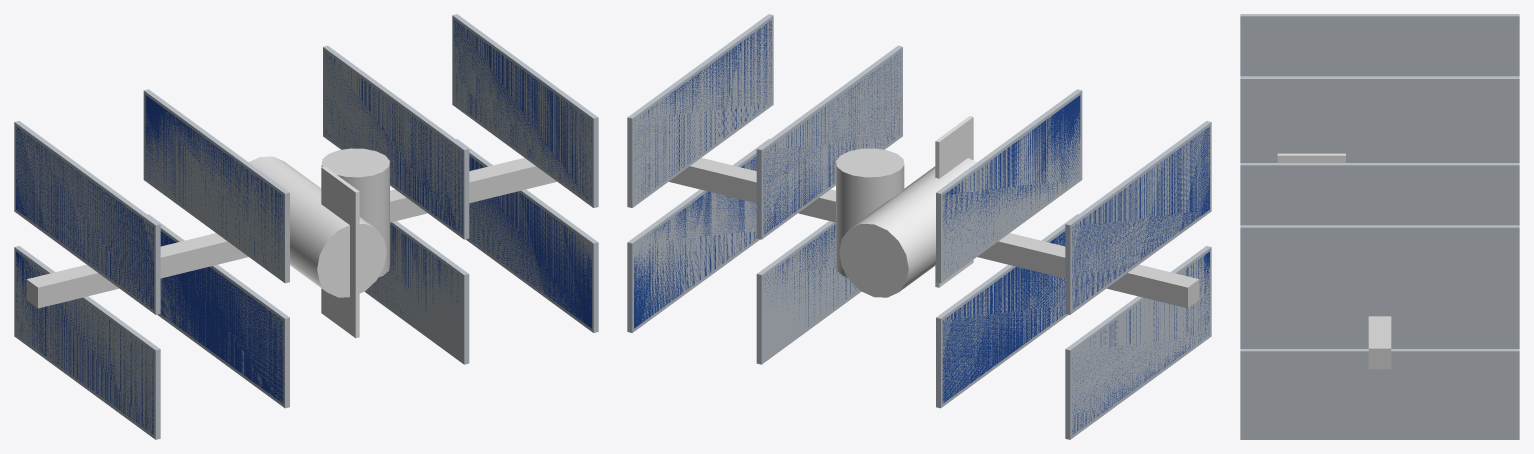
Rendered from iss.glb.
3 views of the same model, side by side, from view 1: azimuth 30°, elevation 25°; view 2: azimuth 150°, elevation 25°; view 3: azimuth 270°, elevation 25° (orthographic).
Visible parts, largest first — view 1: panel (×8), iss; view 2: panel (×8), iss; view 3: panel (×6), iss.
Boxes of the visible parts, bbox=[...] form: panel (×8): bbox=[14, 14, 598, 439]; iss: bbox=[26, 148, 556, 338]; panel (×8): bbox=[627, 14, 1211, 439]; iss: bbox=[669, 116, 1199, 308]; panel (×6): bbox=[1240, 14, 1519, 439]; iss: bbox=[1277, 153, 1391, 369].
Bounding box in the file's own units: 5.5 × 2.06 × 2.46.
